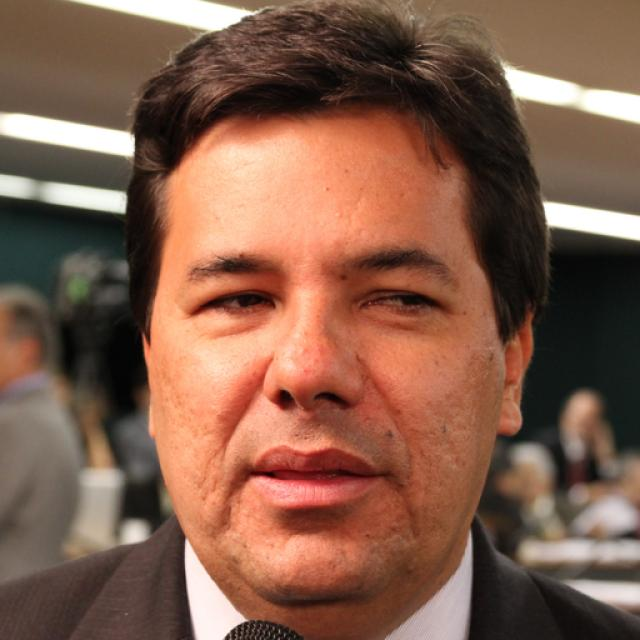Acne: (349, 349, 370, 368), (295, 342, 315, 359)
